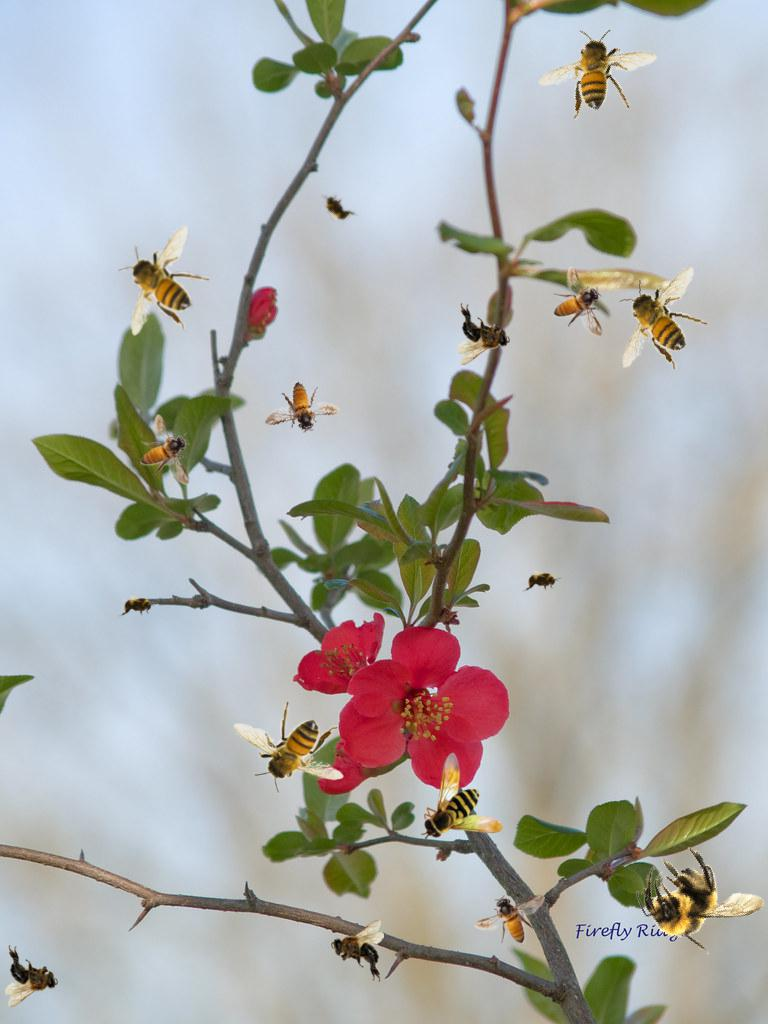Bee: (527, 1, 674, 145), (625, 826, 768, 973), (607, 255, 718, 381), (233, 700, 344, 794), (117, 225, 211, 336), (421, 752, 503, 840), (263, 375, 345, 442), (474, 894, 545, 944), (140, 414, 190, 485), (553, 266, 603, 337), (457, 303, 510, 365), (331, 920, 384, 982), (5, 945, 58, 1007), (315, 185, 359, 231), (118, 595, 158, 617), (522, 570, 562, 592)
